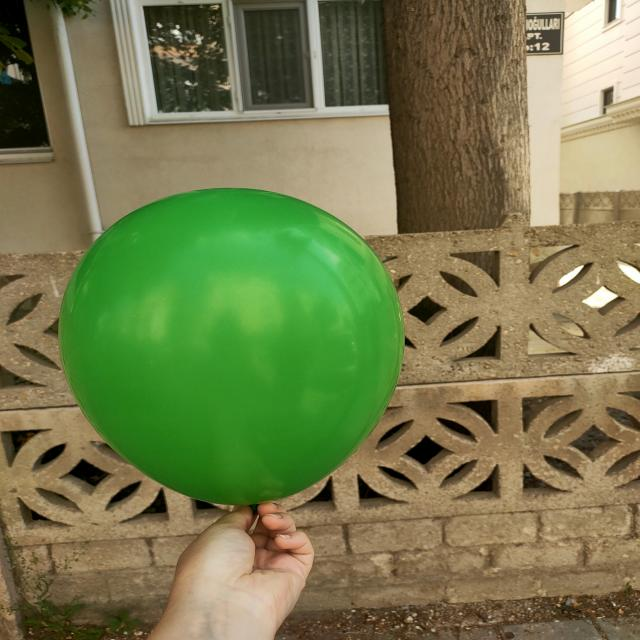green: (61, 190, 405, 505)
